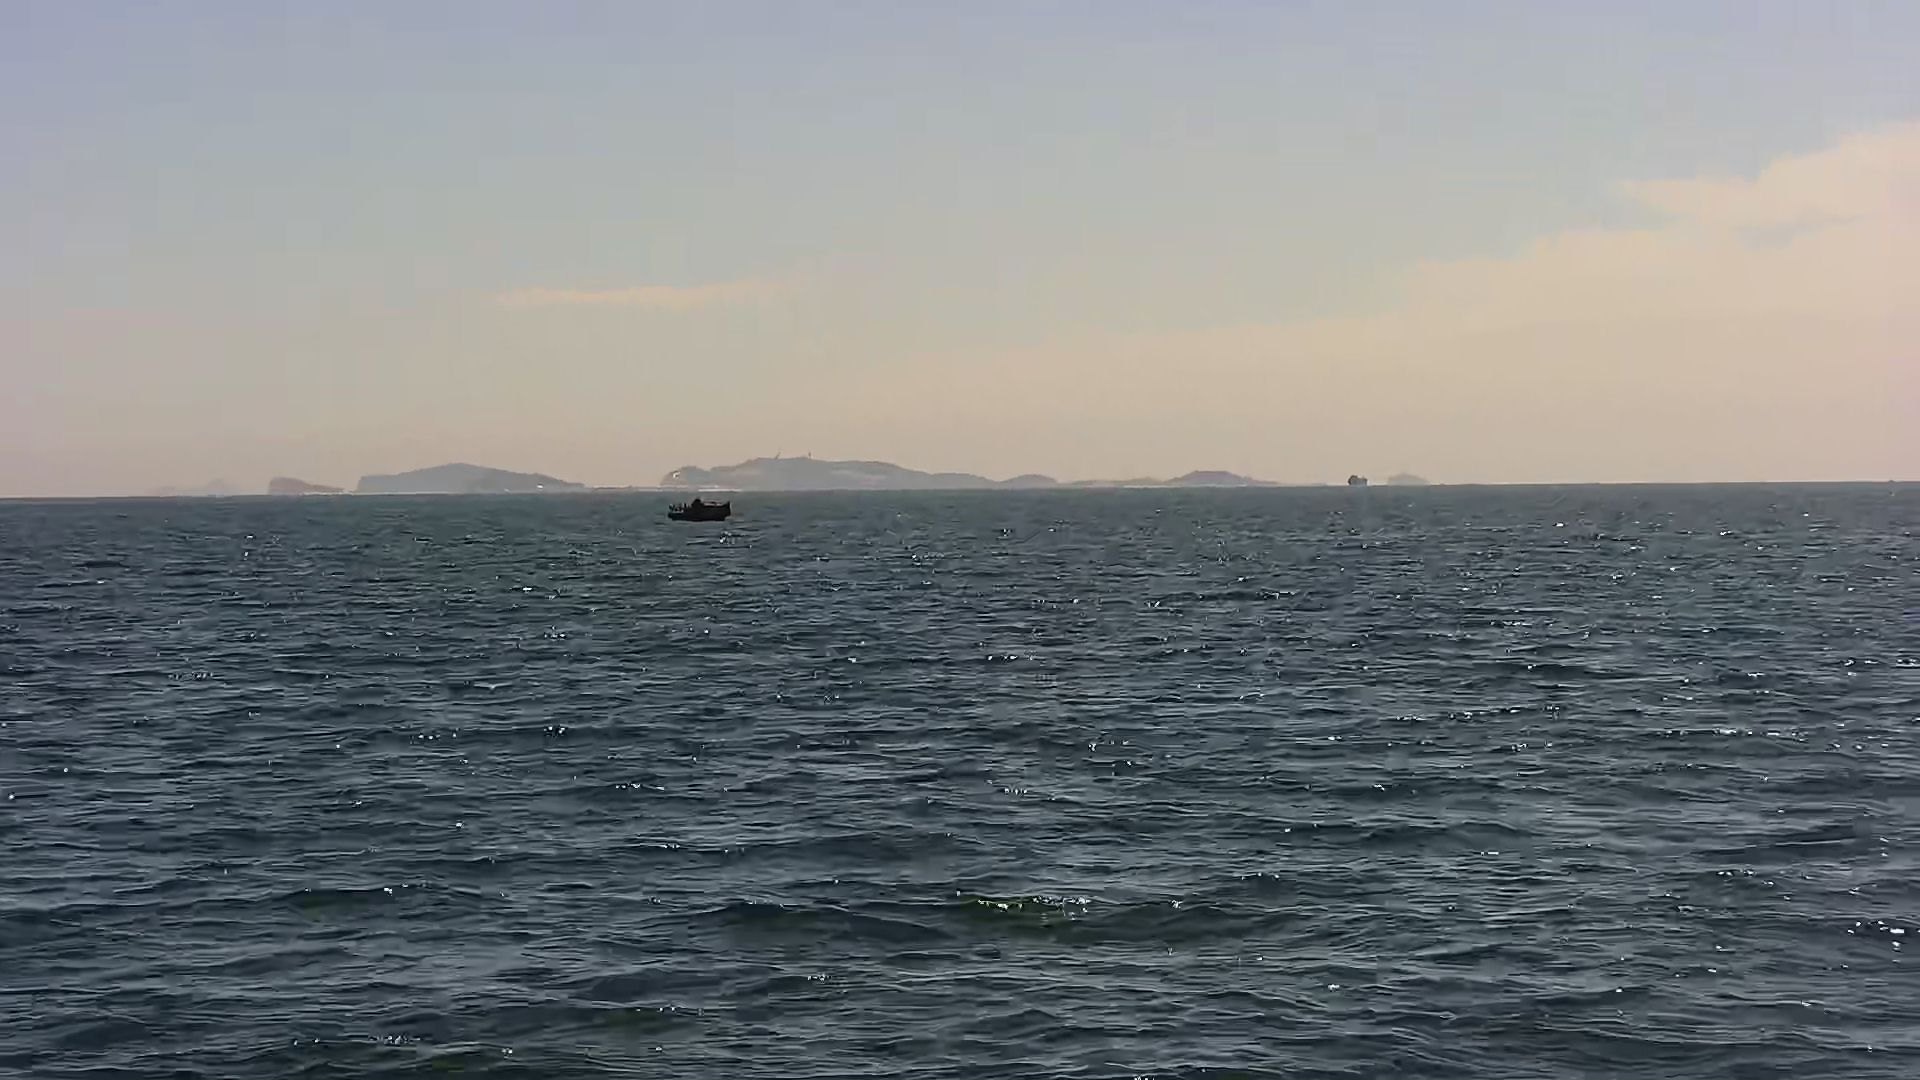boat: (662, 498, 727, 525)
rock: (661, 459, 1324, 492), (353, 458, 608, 495), (268, 468, 352, 495), (1379, 467, 1427, 487)
